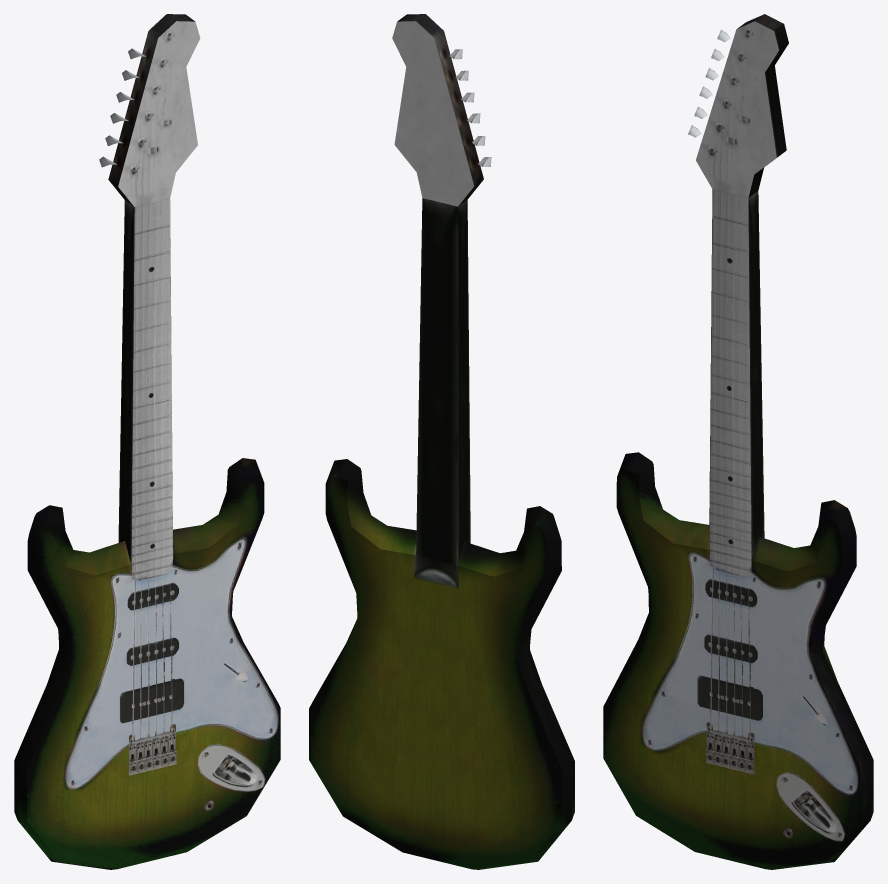
The model's file is M_Home_Garden_Electic_Guitar.fbx.
3 renders of one model, left to right at view 1: azimuth 30°, elevation 25°; view 2: azimuth 150°, elevation 25°; view 3: azimuth 330°, elevation 25°, orthographic.
Visible parts, largest first — view 1: M_Home_Garden_Electic_Guitar; view 2: M_Home_Garden_Electic_Guitar; view 3: M_Home_Garden_Electic_Guitar.
Boxes of the visible parts, <box> form: M_Home_Garden_Electic_Guitar: <box>14,14,280,869</box>; M_Home_Garden_Electic_Guitar: <box>309,14,574,869</box>; M_Home_Garden_Electic_Guitar: <box>603,14,873,869</box>.
Bounding box in the file's own units: 34.36 × 106 × 3.17.
